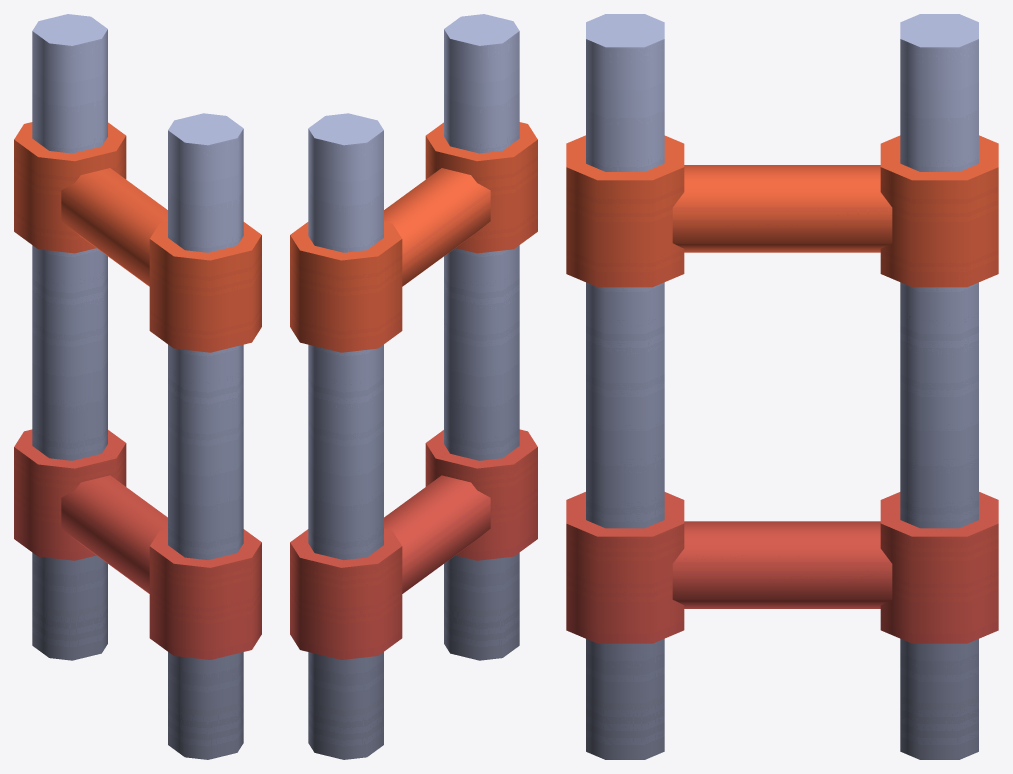
File: ladder-color.glb
3 views of the same model, side by side, from view 1: azimuth 30°, elevation 25°; view 2: azimuth 150°, elevation 25°; view 3: azimuth 270°, elevation 25° (orthographic). The views are drawn at different scales.
Parts seen in each view (by area): view 1: ladder-color-col; view 2: ladder-color-col; view 3: ladder-color-col.
Boxes of the visible parts, x1,y1,x2,y2 form: ladder-color-col: (14, 14, 261, 759); ladder-color-col: (290, 14, 537, 759); ladder-color-col: (566, 14, 998, 759).
Size of the model in its own units: 0.15 by 1 by 0.55.
Materials: 1 (1 with a texture image).
